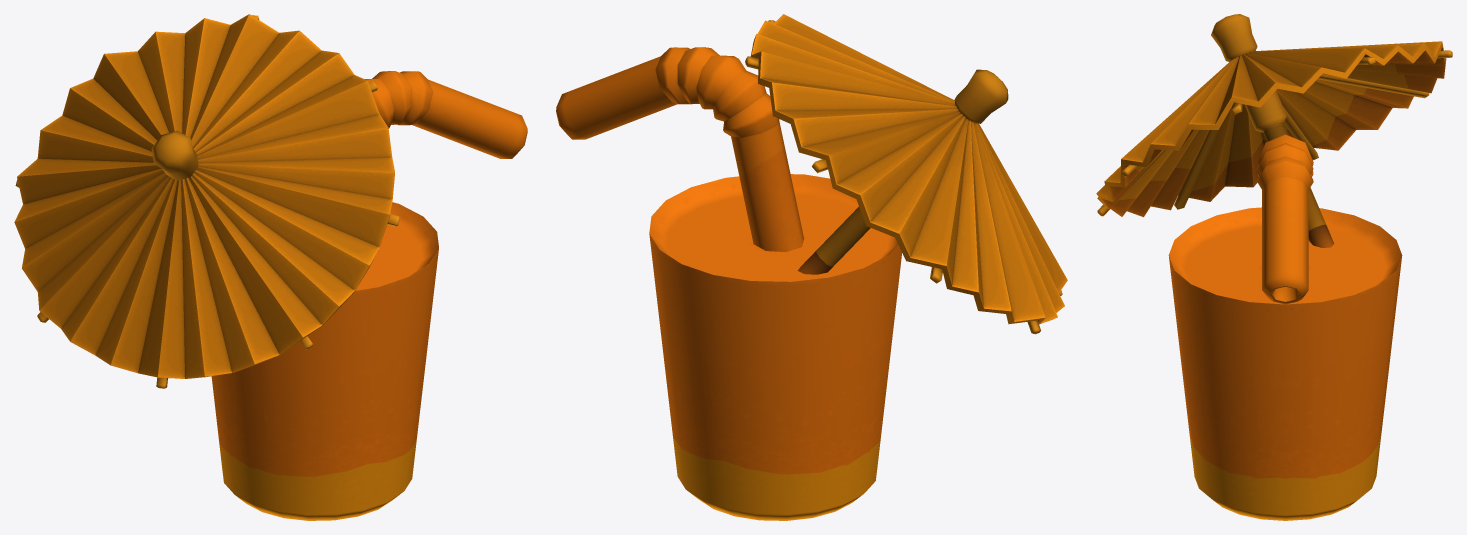
Rendered from Web_Smoothie_Mix_Orange.obj.
3 renders of one model, left to right at view 1: azimuth 30°, elevation 25°; view 2: azimuth 150°, elevation 25°; view 3: azimuth 270°, elevation 25°, orthographic. The views are drawn at different scales.
Visible parts, largest first — view 1: m_recipe_megaSmoothie_01(Clone)_0; view 2: m_recipe_megaSmoothie_01(Clone)_0; view 3: m_recipe_megaSmoothie_01(Clone)_0.
Boxes of the visible parts, left/top/right/bottom form: m_recipe_megaSmoothie_01(Clone)_0: left=14, top=14, right=527, bottom=520; m_recipe_megaSmoothie_01(Clone)_0: left=556, top=14, right=1067, bottom=520; m_recipe_megaSmoothie_01(Clone)_0: left=1096, top=14, right=1452, bottom=520.
Size of the model in its own units: 1.11 by 1.01 by 0.7635.
1 material, 1 textured.
